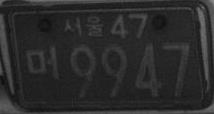4: (133, 41, 163, 98), (108, 13, 130, 39)
7: (163, 41, 191, 99), (129, 11, 149, 40)
9: (99, 43, 130, 99), (69, 43, 97, 100)
머: (26, 44, 61, 80)
서울_O: (63, 14, 104, 38)
